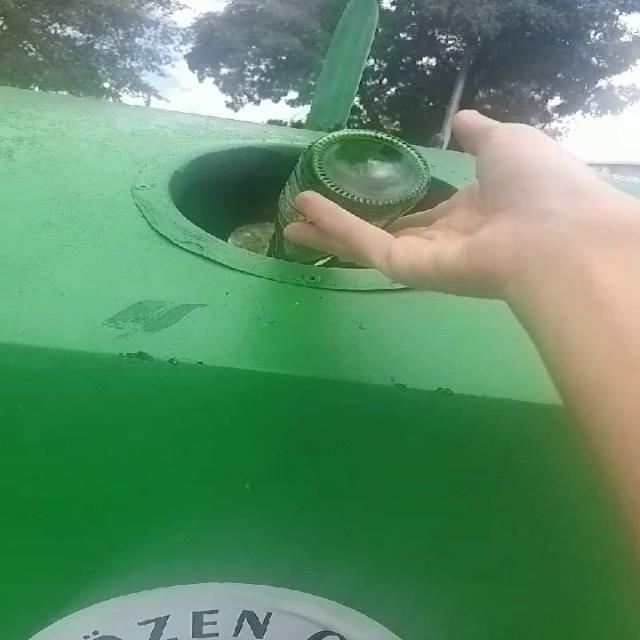glass: (268, 130, 431, 263)
